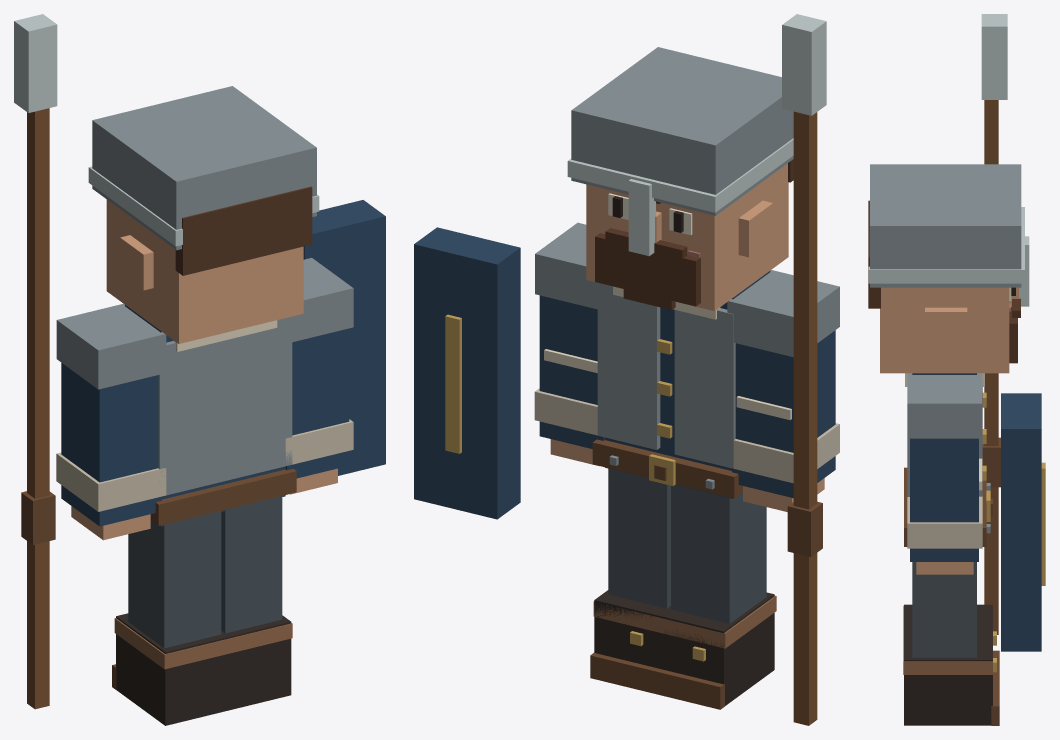
File: town_guard.obj
3 renders of one model, left to right at view 1: azimuth 30°, elevation 25°; view 2: azimuth 150°, elevation 25°; view 3: azimuth 270°, elevation 25°, orthographic. The views are drawn at different scales.
Parts seen in each view (by area): view 1: head, body, right_arm, right_leg, equipment_right, left_leg, left_arm, equipment_left; view 2: head, equipment_left, body, right_leg, equipment_right, right_arm, left_leg, left_arm; view 3: head, left_arm, left_leg, equipment_left, equipment_right, body, right_leg.
Part boxes in pixels (<box>): head: <box>88,86,319,343</box>; body: <box>125,305,296,526</box>; right_arm: <box>56,303,166,540</box>; right_leg: <box>112,511,231,725</box>; equipment_right: <box>14,14,57,709</box>; left_leg: <box>221,496,292,710</box>; left_arm: <box>285,258,353,494</box>; equipment_left: <box>303,200,385,475</box>; head: <box>567,47,793,310</box>; equipment_left: <box>414,227,520,519</box>; body: <box>592,271,770,498</box>; right_leg: <box>653,485,776,709</box>; equipment_right: <box>782,14,826,725</box>; right_arm: <box>727,270,839,511</box>; left_leg: <box>590,468,670,693</box>; left_arm: <box>534,222,604,466</box>; head: <box>868,164,1029,373</box>; left_arm: <box>907,373,982,574</box>; left_leg: <box>903,562,999,725</box>; equipment_left: <box>1001,393,1045,651</box>; equipment_right: <box>981,14,1007,634</box>; body: <box>904,373,992,546</box>; right_leg: <box>903,604,999,677</box>.
Bounding box in the file's own units: 1.48 × 2.62 × 0.6863.
